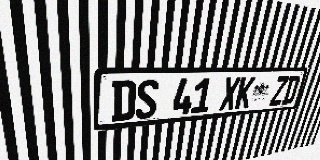1: (190, 78, 213, 114)
4: (172, 78, 195, 116)
D: (111, 80, 136, 122), (281, 76, 301, 105)
K: (234, 77, 256, 109)
S: (135, 79, 160, 119)
X: (219, 77, 241, 111)
Z: (269, 76, 289, 106)
